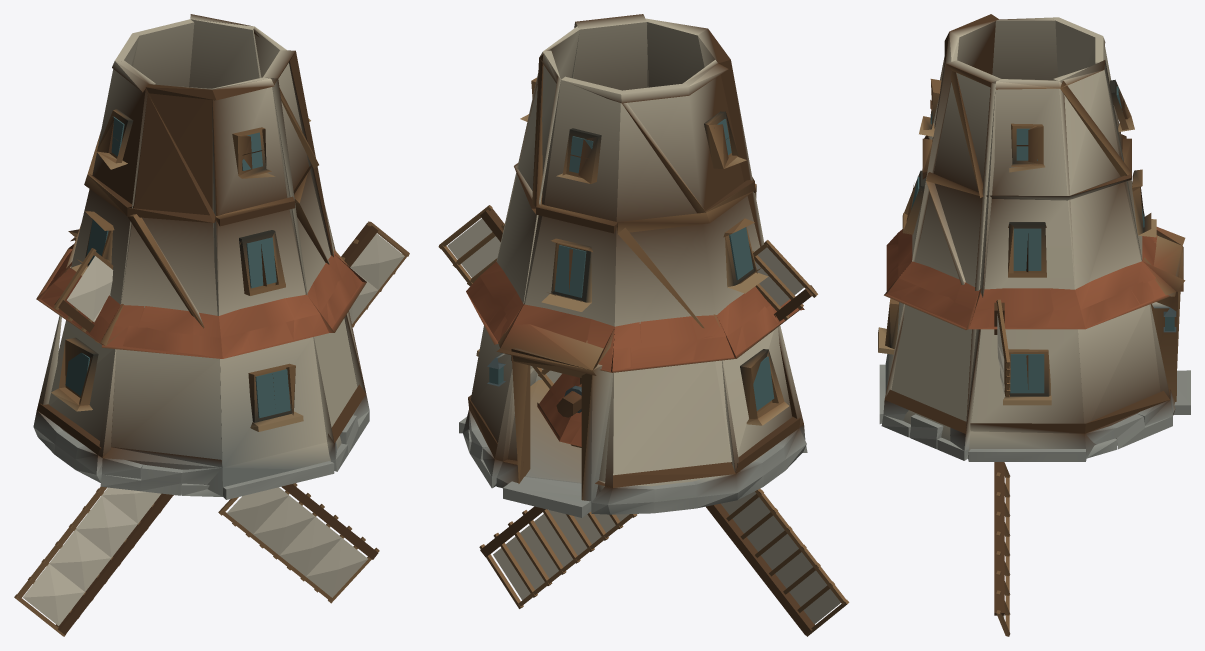
The model's file is WindMill.glb.
3 views of the same model, side by side, from view 1: azimuth 30°, elevation 25°; view 2: azimuth 150°, elevation 25°; view 3: azimuth 270°, elevation 25° (orthographic). The views are drawn at different scales.
Visible parts, largest first — view 1: WindMill_P0_LOD1, WindMillSails_P0_LOD1, WindMillGlass_P0_LOD1; view 2: WindMill_P0_LOD1, WindMillSails_P0_LOD1, WindMillGlass_P0_LOD1, WindMillCap_P0_LOD1; view 3: WindMill_P0_LOD1, WindMillSails_P0_LOD1, WindMillGlass_P0_LOD1.
Boxes of the visible parts, left/top/right/bottom form: WindMill_P0_LOD1: left=33, top=14, right=369, bottom=499; WindMillSails_P0_LOD1: left=14, top=221, right=409, bottom=636; WindMillGlass_P0_LOD1: left=65, top=116, right=290, bottom=418; WindMill_P0_LOD1: left=459, top=14, right=807, bottom=517; WindMillSails_P0_LOD1: left=438, top=205, right=849, bottom=636; WindMillGlass_P0_LOD1: left=489, top=119, right=774, bottom=410; WindMillCap_P0_LOD1: left=537, top=373, right=581, bottom=447; WindMill_P0_LOD1: left=878, top=14, right=1190, bottom=461; WindMillSails_P0_LOD1: left=994, top=299, right=1010, bottom=636; WindMillGlass_P0_LOD1: left=911, top=86, right=1174, bottom=393.
Bounding box in the file's own units: 7.55 × 10.47 × 5.53.
